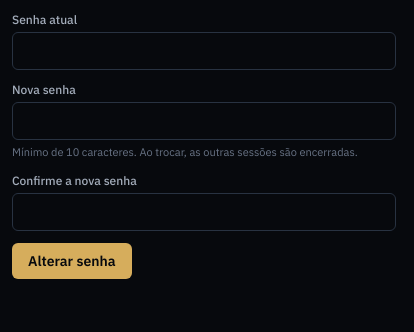
Test: FormSenha › bloqueia senha nova com menos de 10 caracteres
In the password field labelled "Senha atual": (204, 51) [12,32,396,70], type "antiga-123"
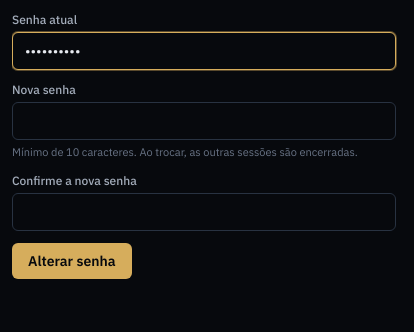
In the password field labelled "Nova senha": (204, 121) [12,102,396,140], type "curta"
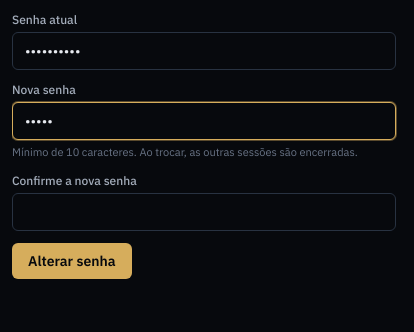
In the password field labelled "Confirme a nova senha": (204, 212) [12,192,396,230], type "curta"
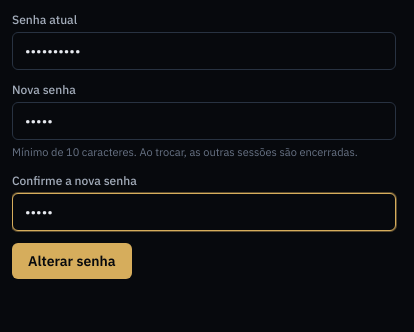
Click the button "Alterar senha": (72, 260) [12,242,132,278]
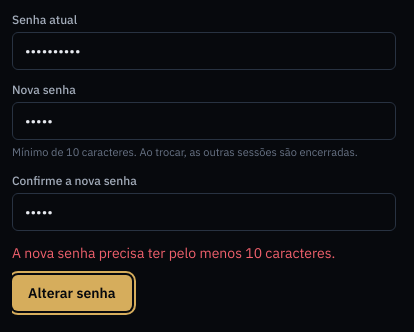
Expected: the message reads "A nova senha precisa ter pelo menos 10 caracteres.", [12,244,335,262]
